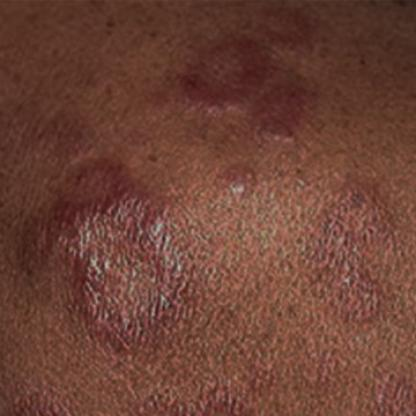Leprosy: (10, 150, 218, 352), (158, 0, 364, 126), (298, 171, 406, 342)
